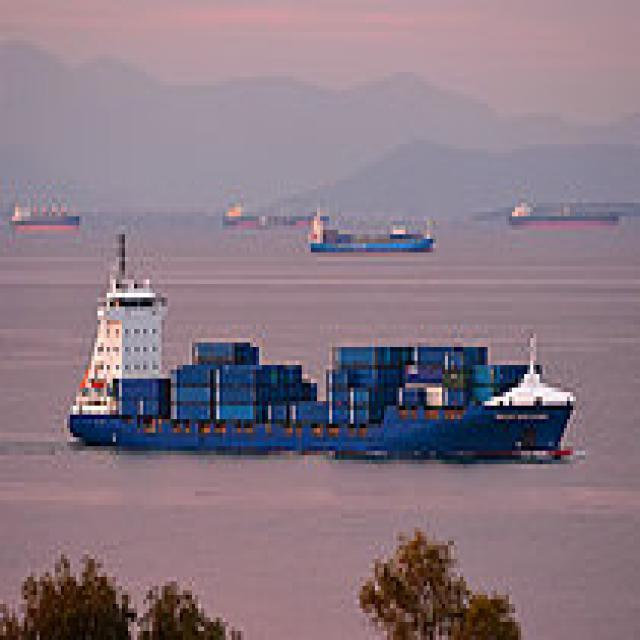Ship: (56, 217, 599, 479)
